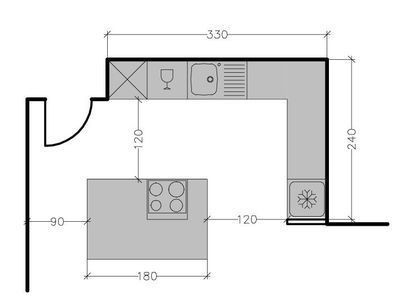door: (41, 92, 94, 155)
wall: (105, 55, 330, 65), (321, 56, 331, 223), (23, 100, 30, 294), (325, 220, 394, 228)
